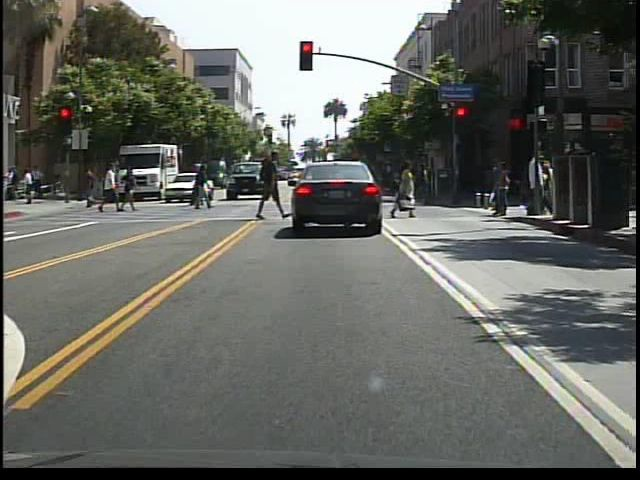person: (255, 148, 289, 224), (517, 149, 548, 223), (390, 160, 419, 221), (103, 163, 126, 217), (192, 165, 213, 214), (193, 164, 211, 210), (123, 168, 138, 213), (88, 165, 100, 212)
